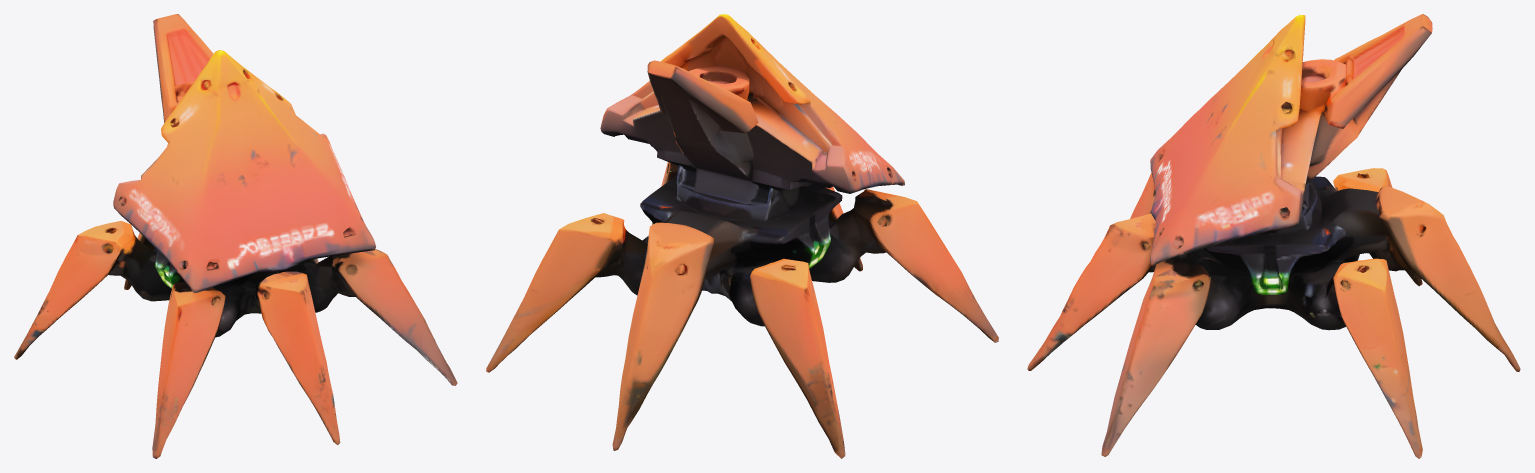
Rendered from base_basic_shaded.fbx.
The picture shows the model from 3 angles, left to right: view 1: azimuth 30°, elevation 25°; view 2: azimuth 150°, elevation 25°; view 3: azimuth 270°, elevation 25°; orthographic projection. The views are drawn at different scales.
Visible parts, largest first — view 1: root.0, root.1, root.2, root.3, root.4; view 2: root.0, root.1, root.4, root.5, root.2; view 3: root.0, root.1, root.3, root.5, root.4, root.2.
Part boxes in pixels (x1,y1,x2,y2): root.0: (105,14,375,337); root.1: (124,233,340,444); root.2: (152,282,225,458); root.3: (333,249,457,385); root.4: (14,221,133,359); root.0: (591,14,904,326); root.1: (612,175,862,450); root.4: (750,258,845,458); root.5: (486,213,626,372); root.2: (854,189,998,342); root.0: (1150,14,1432,330); root.1: (1027,176,1520,371); root.3: (1101,259,1210,456); root.5: (1333,258,1422,458); root.4: (1333,168,1422,286); root.2: (1130,173,1155,218).
Size of the model in its own units: 152 by 145 by 181.
